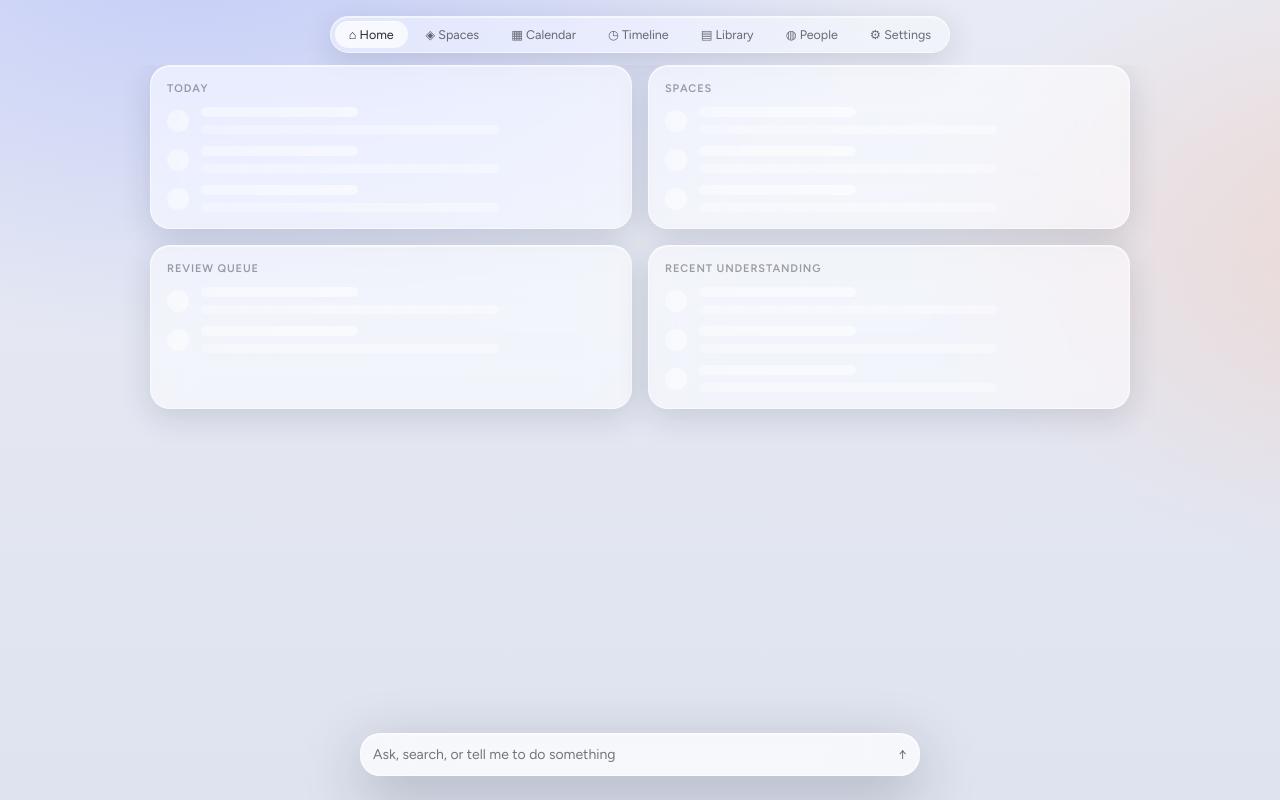
it: a pending main tab never renders an empty verdict (FIX-C5) › Spaces stages the list instead of saying there are none
Click the button "◈ Spaces". click: (452, 34)
box: [412,21,493,48]
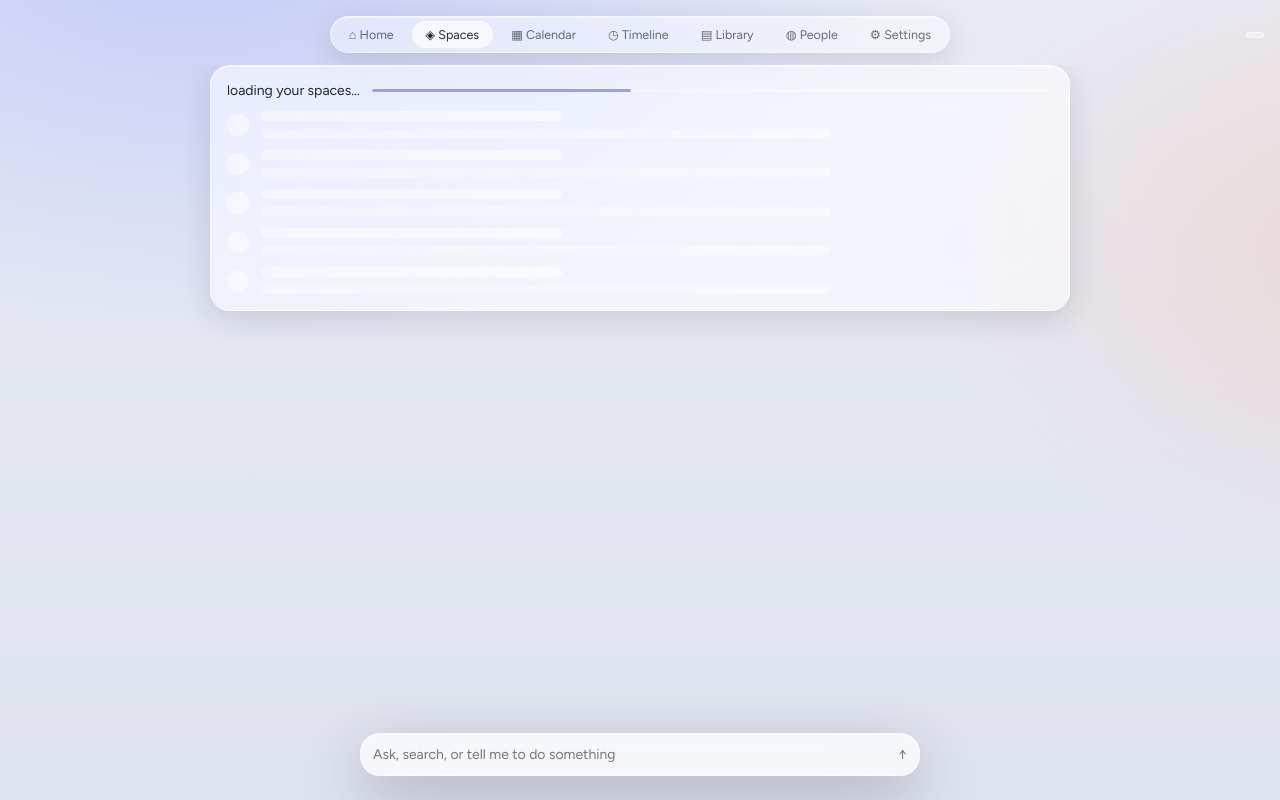
Result: the message "loading your spaces…" is shown at [210,65,1070,311]
